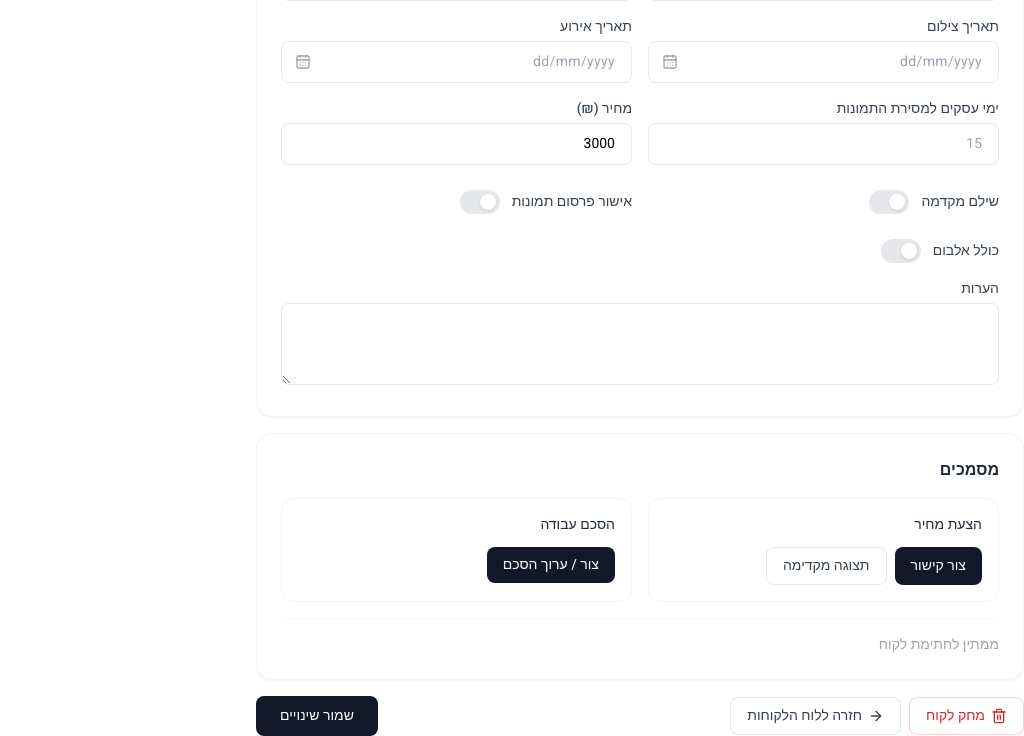
Scenario: ClientTicket › delete button opens confirm dialog
This screenshot has width=1024, height=736.
(page scrolled)
Click the button "מחק לקוח" at (966, 716), box [909,697,1023,735]
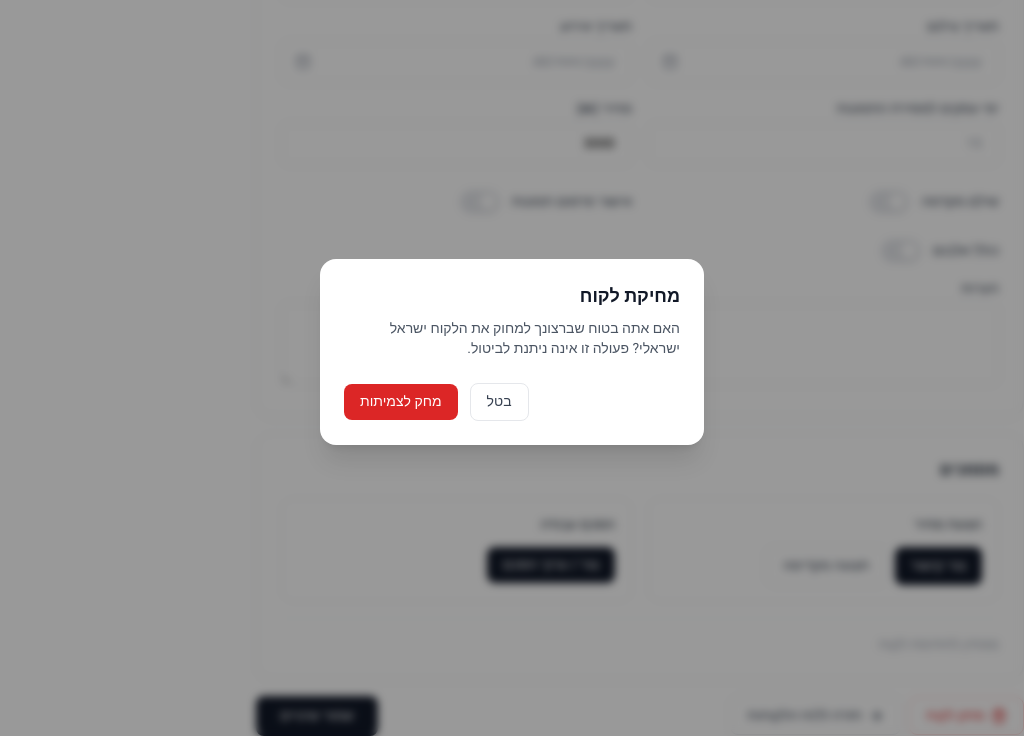
Result: the heading "מחיקת לקוח" is shown at [580,283,680,310]
Result: the button "מחק לצמיתות" is shown at [344,384,458,420]
